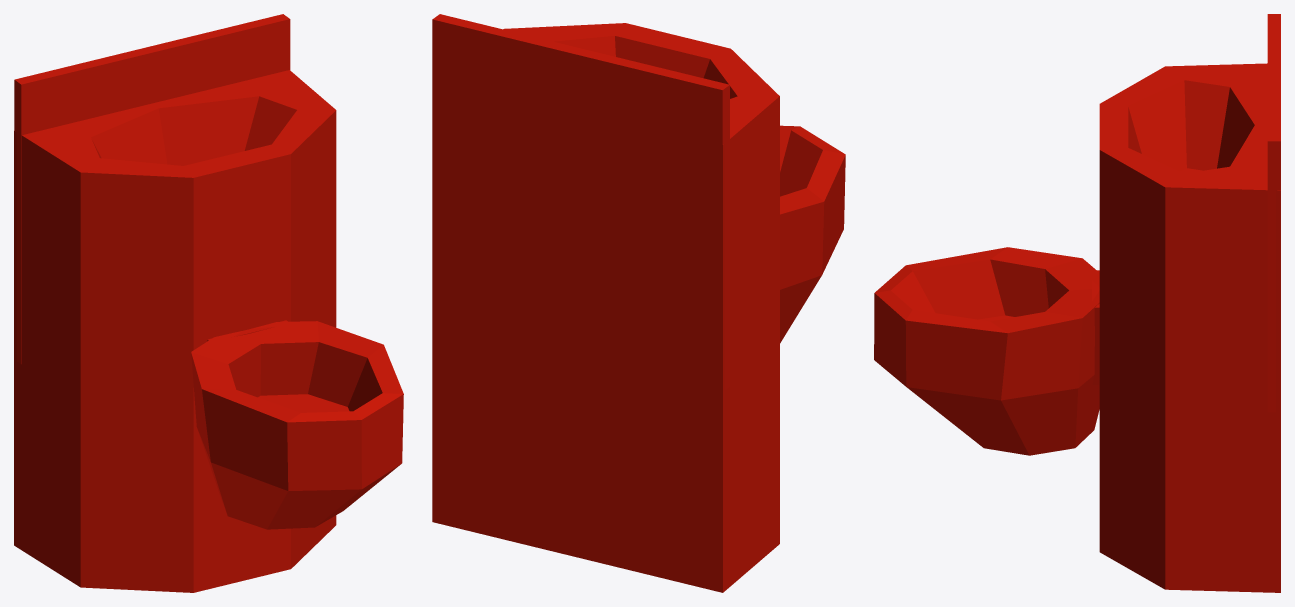
File: UCX_stool_sink_metal.fbx
3 renders of one model, left to right at view 1: azimuth 30°, elevation 25°; view 2: azimuth 150°, elevation 25°; view 3: azimuth 270°, elevation 25°, orthographic. The views are drawn at different scales.
Parts seen in each view (by area): view 1: UCX_stool_sink_metal; view 2: UCX_stool_sink_metal; view 3: UCX_stool_sink_metal.
Boxes of the visible parts, x1,y1,x2,y2 form: UCX_stool_sink_metal: (14, 14, 403, 592); UCX_stool_sink_metal: (432, 14, 845, 592); UCX_stool_sink_metal: (874, 14, 1280, 592).
Bounding box in the file's own units: 0.4844 × 0.8002 × 0.6533.
